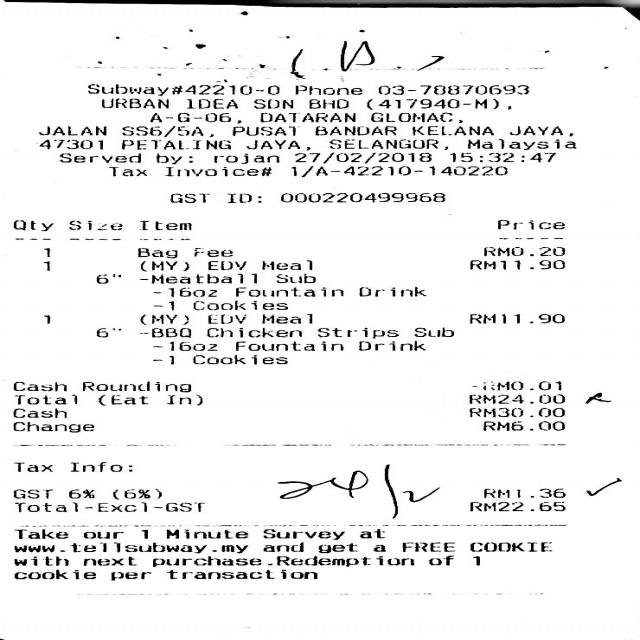text: (86, 84, 276, 95), (12, 501, 202, 511), (271, 554, 411, 566), (292, 151, 430, 163), (278, 192, 443, 202), (363, 98, 509, 109), (164, 569, 314, 579), (112, 542, 245, 553), (289, 165, 419, 176), (376, 85, 527, 94), (138, 273, 257, 284), (327, 138, 445, 149), (82, 380, 190, 391), (466, 139, 574, 149), (232, 340, 340, 350), (150, 556, 258, 566), (163, 165, 270, 175), (448, 152, 554, 162), (120, 125, 212, 136), (148, 112, 239, 123), (120, 140, 228, 149), (232, 287, 340, 296), (315, 326, 396, 338), (190, 354, 286, 364), (467, 407, 563, 417), (467, 501, 563, 511), (206, 327, 300, 337), (468, 258, 561, 268), (468, 313, 561, 323), (368, 112, 459, 122), (10, 421, 92, 432), (191, 300, 285, 309), (259, 112, 352, 121), (468, 394, 561, 403), (312, 125, 394, 135), (56, 152, 138, 162), (482, 421, 564, 431), (163, 528, 245, 538), (261, 529, 343, 539), (12, 569, 94, 579), (411, 125, 492, 135), (470, 381, 558, 390), (426, 165, 505, 175), (482, 488, 564, 497), (481, 247, 562, 256), (468, 542, 549, 551), (67, 461, 132, 472), (507, 125, 571, 136), (245, 139, 309, 150), (212, 152, 276, 163), (36, 125, 103, 135), (358, 286, 425, 296), (229, 125, 293, 135), (36, 138, 100, 148), (152, 287, 216, 297), (152, 340, 216, 350), (12, 394, 74, 404), (294, 85, 361, 94), (100, 98, 166, 107), (496, 220, 562, 229), (356, 340, 422, 349), (260, 313, 312, 324), (96, 394, 145, 405), (183, 98, 236, 108), (112, 488, 160, 499), (68, 220, 120, 230), (138, 220, 190, 230), (136, 327, 188, 337), (11, 380, 63, 390), (11, 408, 63, 418), (12, 556, 67, 565), (137, 314, 186, 324), (13, 529, 67, 538), (139, 261, 186, 271), (401, 542, 453, 551), (81, 556, 133, 565), (259, 260, 309, 269), (135, 247, 175, 258), (250, 98, 290, 108), (314, 542, 354, 552), (11, 220, 50, 230), (164, 394, 199, 405), (309, 98, 347, 108), (168, 193, 206, 203), (274, 273, 312, 283), (107, 165, 144, 175), (155, 153, 191, 163), (262, 542, 302, 551), (412, 327, 451, 336), (109, 571, 148, 580), (12, 544, 62, 551), (71, 542, 105, 552), (224, 193, 261, 202), (192, 247, 229, 256), (206, 314, 243, 323), (12, 462, 49, 471), (206, 261, 243, 269), (12, 490, 49, 498), (82, 531, 122, 538), (358, 528, 382, 538), (428, 555, 452, 565), (151, 300, 174, 310), (96, 274, 119, 283), (96, 327, 119, 336), (66, 490, 90, 498), (150, 355, 170, 363), (470, 555, 480, 565), (41, 247, 50, 257), (42, 261, 51, 271), (41, 315, 50, 324), (373, 544, 384, 551), (140, 529, 144, 538)
